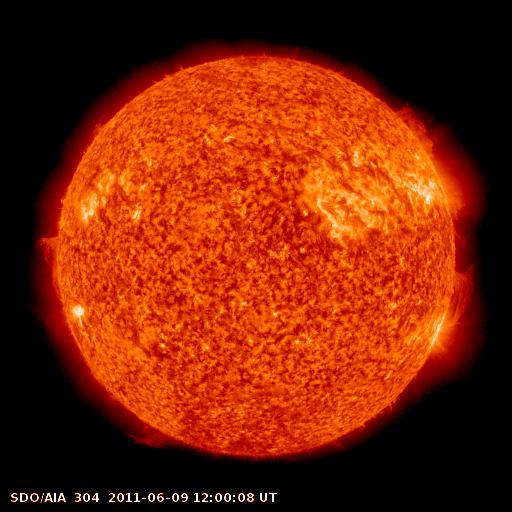prominence: (17, 228, 84, 297), (110, 401, 177, 455), (390, 97, 445, 161), (441, 259, 489, 328)
